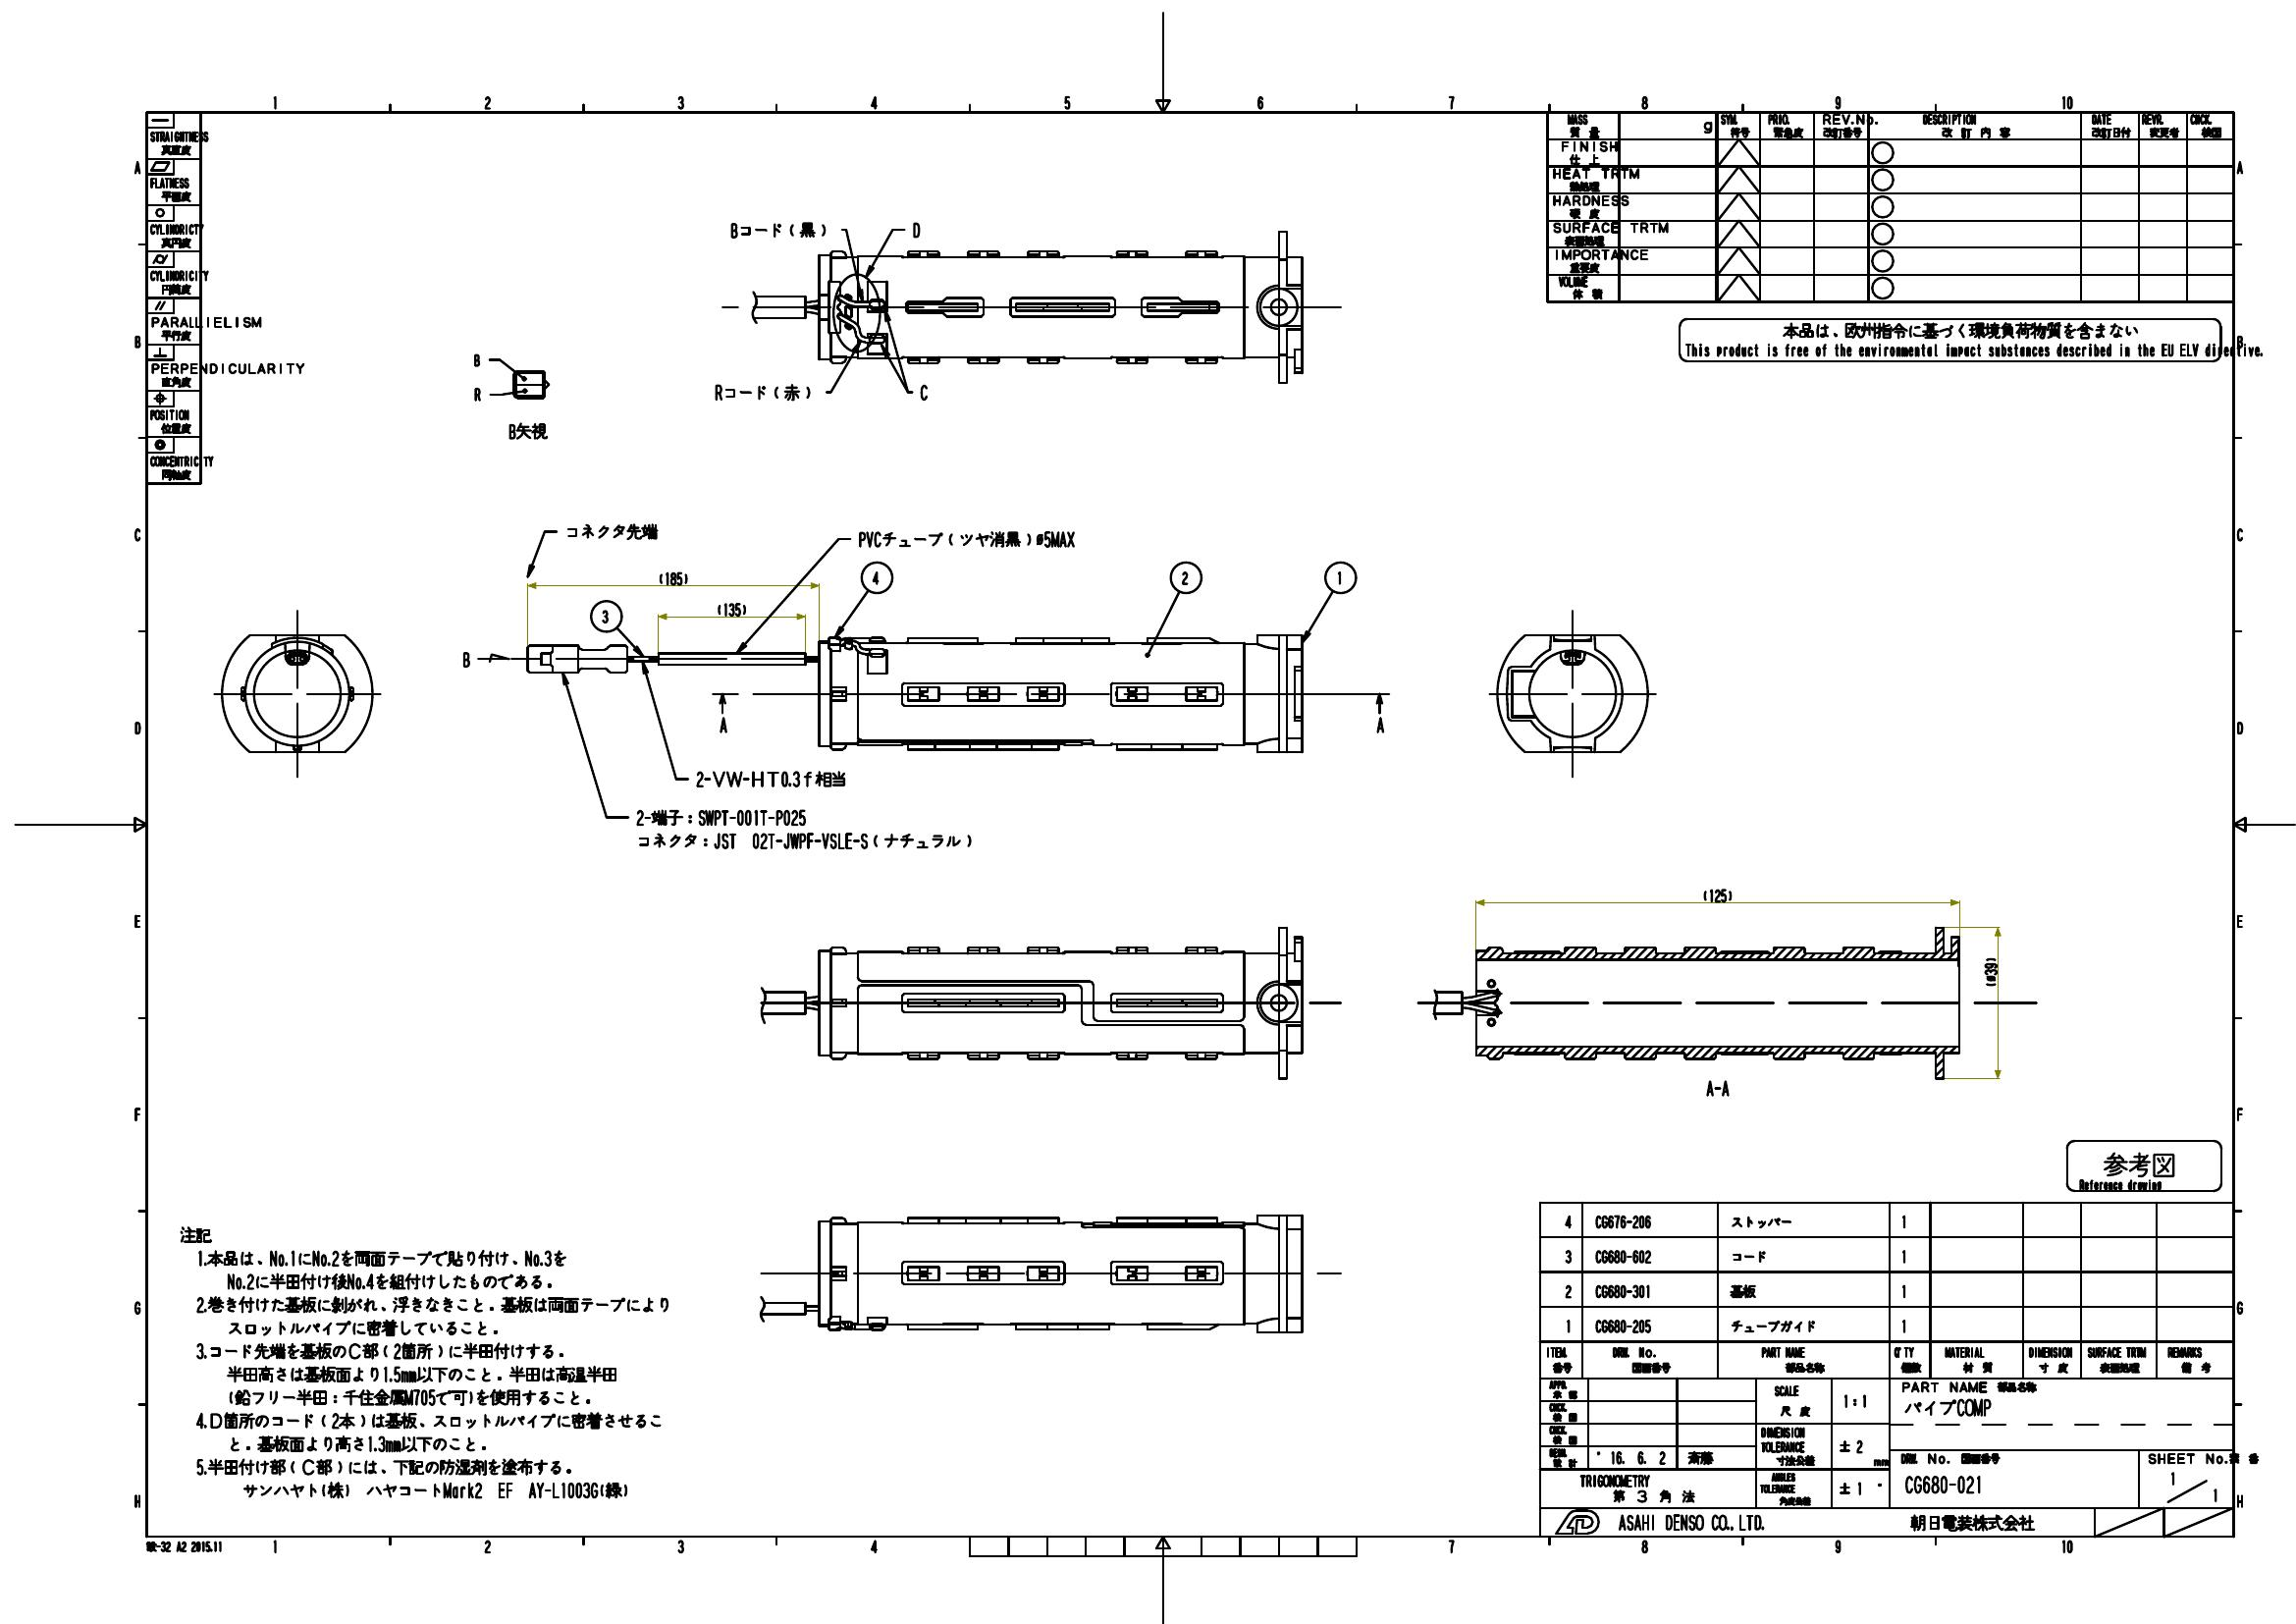anntotation_text: (176, 1223, 673, 1501), (1676, 316, 2264, 362), (2064, 1135, 2224, 1193), (632, 831, 973, 851), (856, 529, 1079, 550), (692, 768, 848, 791), (634, 808, 806, 826), (711, 380, 810, 404), (560, 522, 662, 543), (729, 220, 829, 239), (857, 559, 896, 594), (587, 598, 624, 633), (1323, 561, 1358, 596), (1170, 559, 1203, 594), (142, 1540, 225, 1552), (502, 420, 550, 441), (1706, 1079, 1730, 1098), (1372, 714, 1388, 733), (715, 714, 727, 735), (917, 383, 929, 402), (908, 220, 921, 239), (473, 385, 483, 404), (460, 650, 471, 668), (473, 353, 483, 367)
dimension_text: (715, 599, 748, 619), (657, 569, 689, 587), (1702, 888, 1732, 903), (1983, 956, 1999, 986)
object: (523, 633, 1305, 756), (748, 228, 1305, 385), (759, 926, 1307, 1083), (1432, 924, 1960, 1081), (759, 1211, 1305, 1334), (1495, 631, 1650, 754), (218, 633, 374, 754), (509, 366, 550, 401)
title_block: (1535, 1199, 2236, 1538), (1544, 105, 2236, 304), (144, 109, 206, 485)
